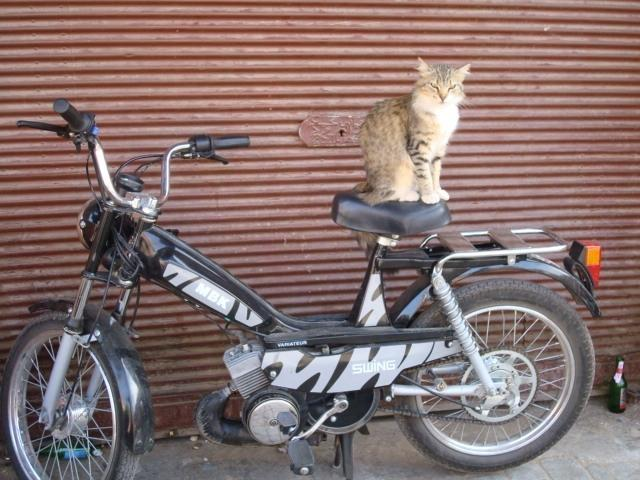motorcycle: (11, 102, 604, 475)
